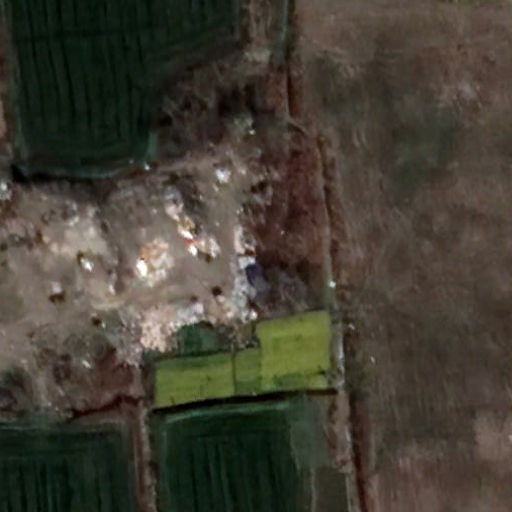msw: (122, 168, 253, 351)
